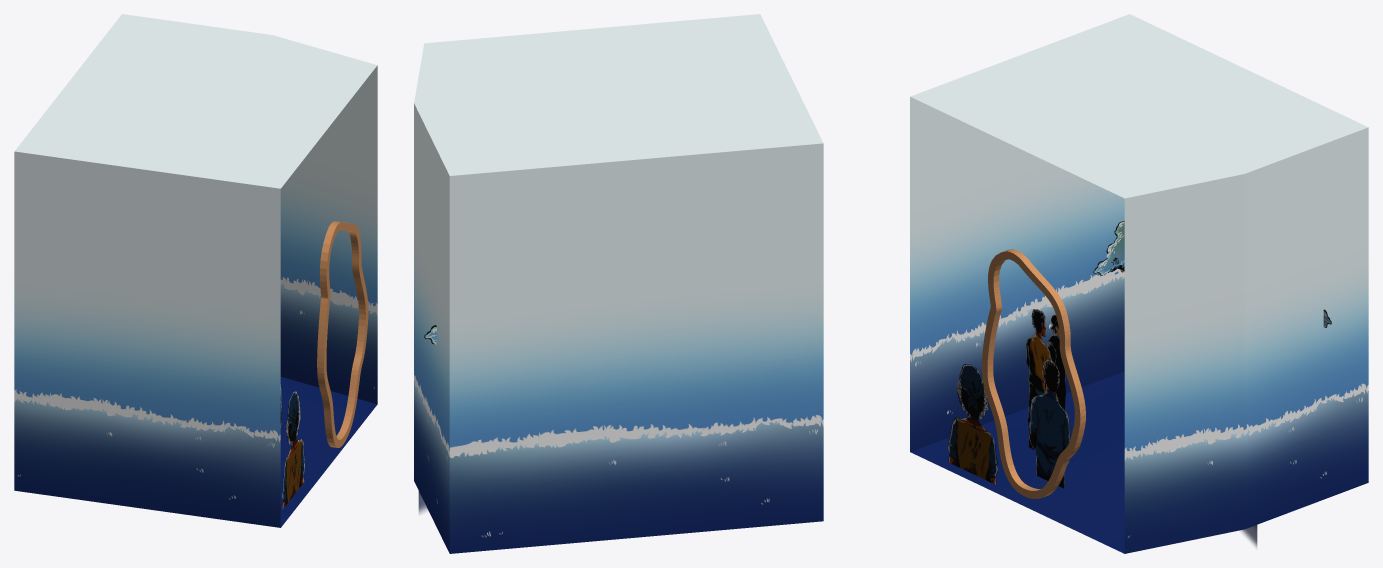
Rendered from NA1Quadro4.glb.
3 views of the same model, side by side, from view 1: azimuth 30°, elevation 25°; view 2: azimuth 150°, elevation 25°; view 3: azimuth 270°, elevation 25° (orthographic). The views are drawn at different scales.
Visible parts, largest first — view 1: Fundo_Q3.003, Fundo_Q3.005, Fundo_Q3.001, Fundo_Q3.004, Frame_4, Mulher.001; view 2: Fundo_Q3, Fundo_Q3.005, Fundo_Q3.001; view 3: Fundo_Q3.001, Fundo_Q3.003, Fundo_Q3.005, Fundo_Q3.004, Frame_4, Mulher.001, Homem.001, Homens.001, Arvores.002.
Part boxes in pixels (x1,y1,x2,y2): Fundo_Q3.003: (14, 151, 280, 527); Fundo_Q3.005: (14, 14, 377, 188); Fundo_Q3.001: (280, 65, 377, 404); Fundo_Q3.004: (280, 377, 377, 527); Frame_4: (317, 221, 368, 447); Mulher.001: (282, 391, 304, 509); Fundo_Q3: (449, 143, 823, 553); Fundo_Q3.005: (414, 14, 823, 175); Fundo_Q3.001: (414, 103, 449, 552); Fundo_Q3.001: (1124, 127, 1368, 553); Fundo_Q3.003: (910, 97, 1124, 451); Fundo_Q3.005: (910, 14, 1367, 198); Fundo_Q3.004: (910, 371, 1124, 553); Frame_4: (982, 249, 1085, 498); Mulher.001: (947, 364, 997, 484); Homem.001: (1029, 359, 1070, 488); Homens.001: (1026, 309, 1065, 449); Arvores.002: (1093, 221, 1124, 275).
Bounding box in the file's own units: 2.08 × 2.02 × 2.36.
Materials: 7 (6 with a texture image).
